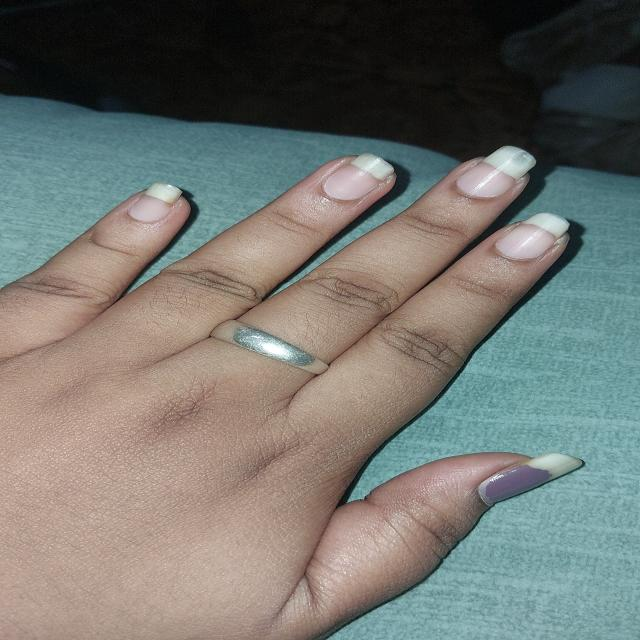nail: (477, 454, 583, 506), (457, 146, 535, 198), (322, 154, 394, 200), (496, 214, 568, 259), (129, 183, 182, 222)
